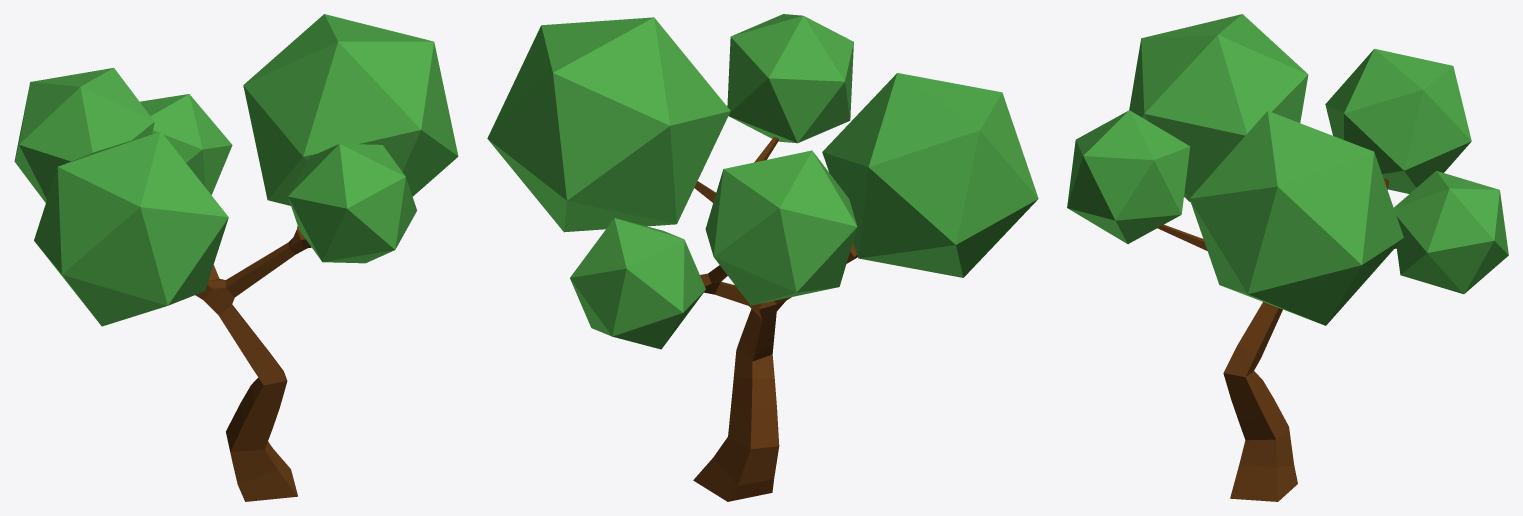
File: Tree #1.fbx
3 renders of one model, left to right at view 1: azimuth 30°, elevation 25°; view 2: azimuth 150°, elevation 25°; view 3: azimuth 270°, elevation 25°, orthographic. The views are drawn at different scales.
Visible parts, largest first — view 1: Icosphere.014; view 2: Icosphere.014; view 3: Icosphere.014.
Part boxes in pixels (x1=…): Icosphere.014: x1=14, y1=14, x2=458, y2=501; Icosphere.014: x1=487, y1=14, x2=1038, y2=501; Icosphere.014: x1=1067, y1=14, x2=1508, y2=501.
Size of the model in its own units: 1726 by 1648 by 1577.
